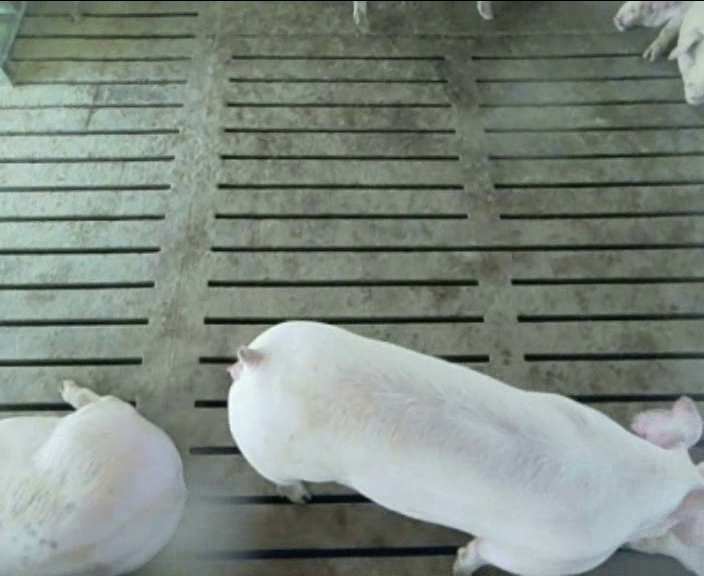pig: (229, 321, 703, 573), (0, 380, 185, 573)
